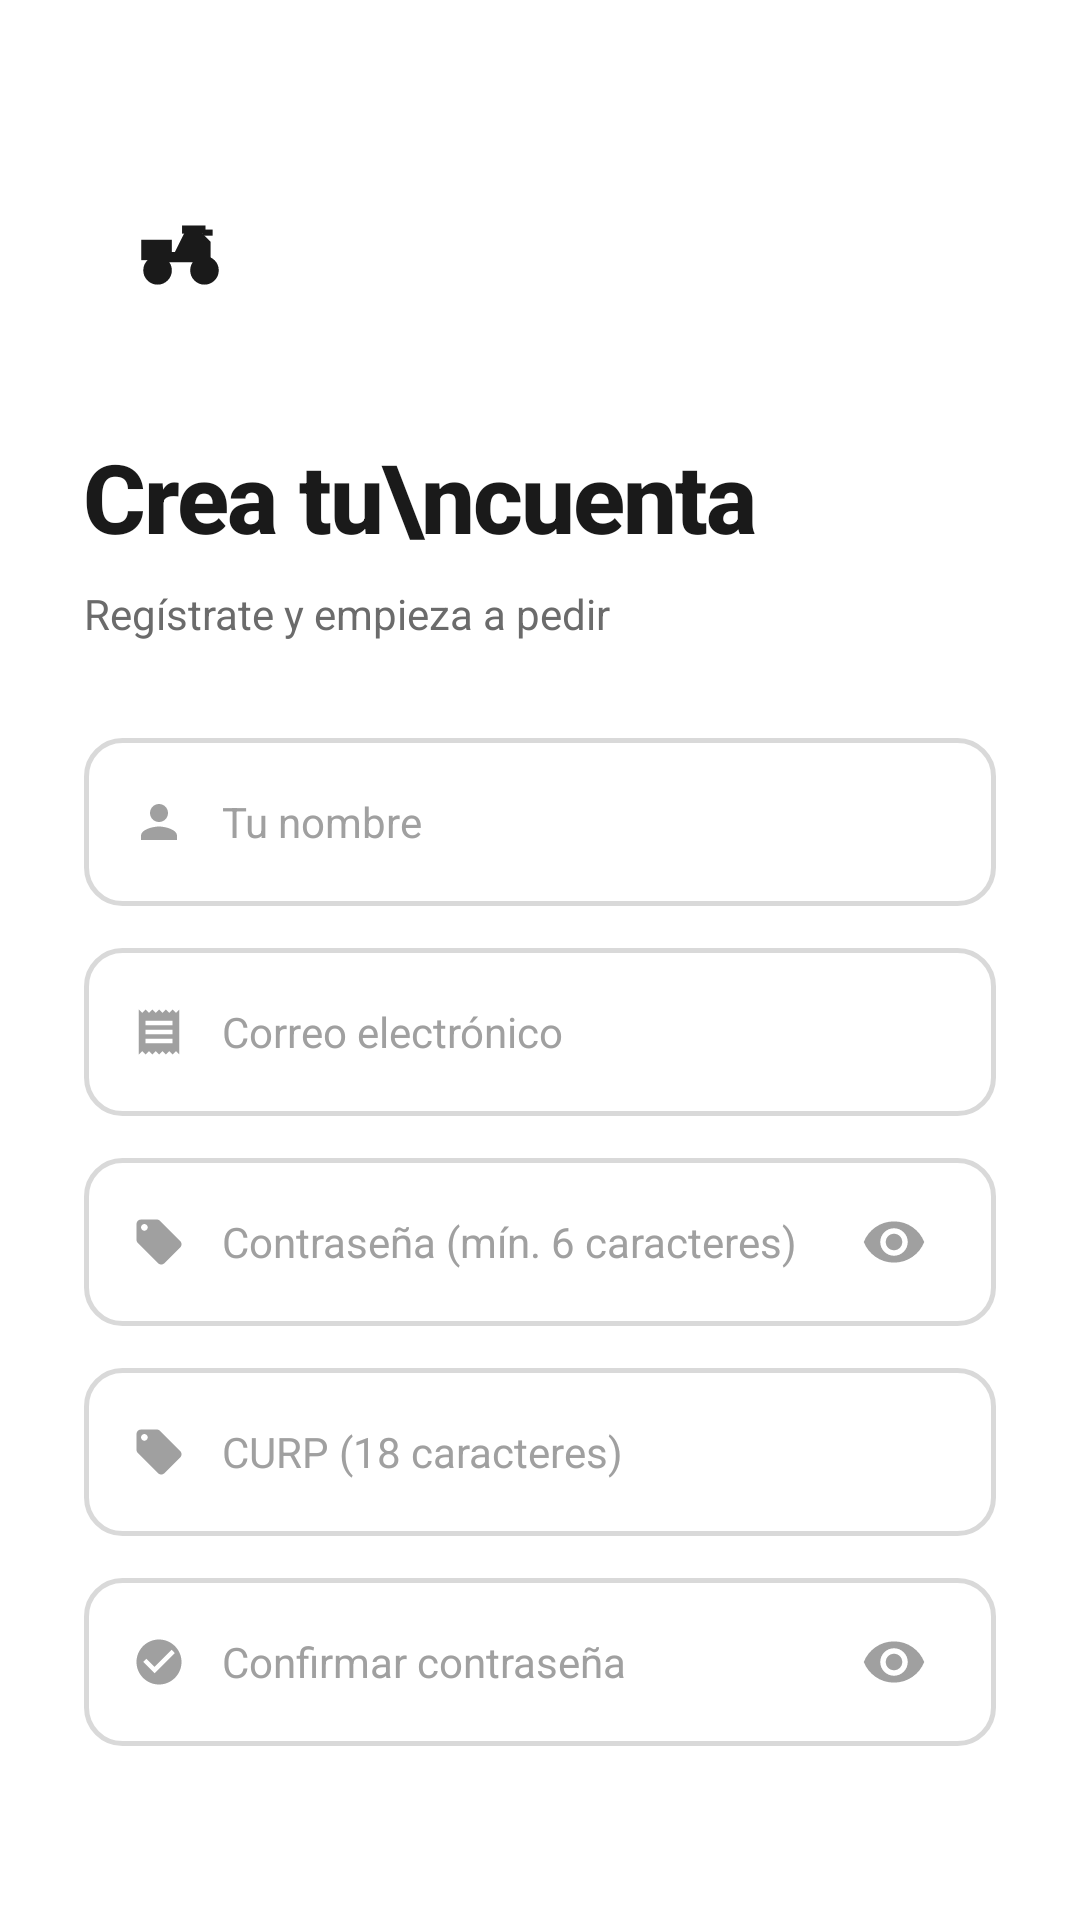

Screen size 1080 x 1920. Icon name, then its box in pixels as (x1, y1, x2, y2):
check circle: (136, 1639, 182, 1685)
Mostrar contraseña: (864, 1221, 924, 1263), (864, 1641, 924, 1683)
person: (141, 804, 177, 840)
receipt: (139, 1010, 179, 1054)
tag: (136, 1219, 182, 1265), (136, 1429, 182, 1475)
